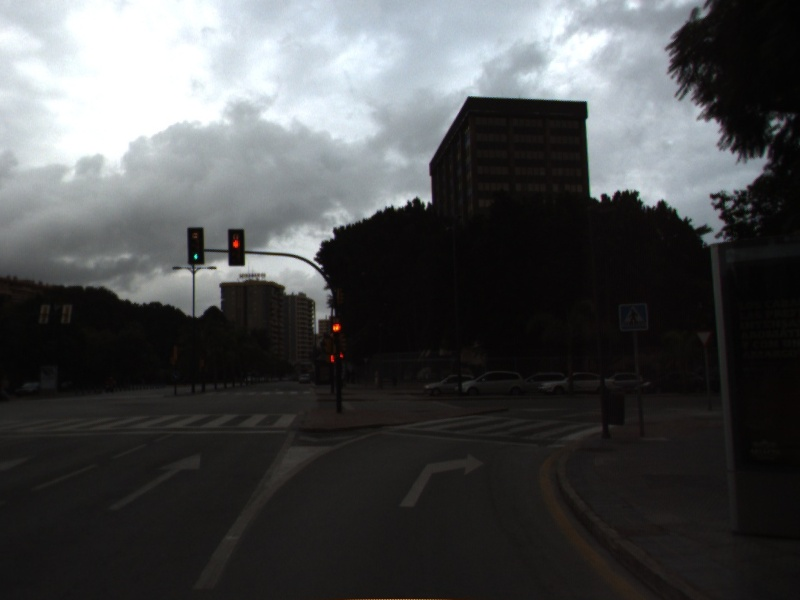RIGHT: (395, 447, 490, 511)
STRAIGHT: (104, 448, 206, 514)
